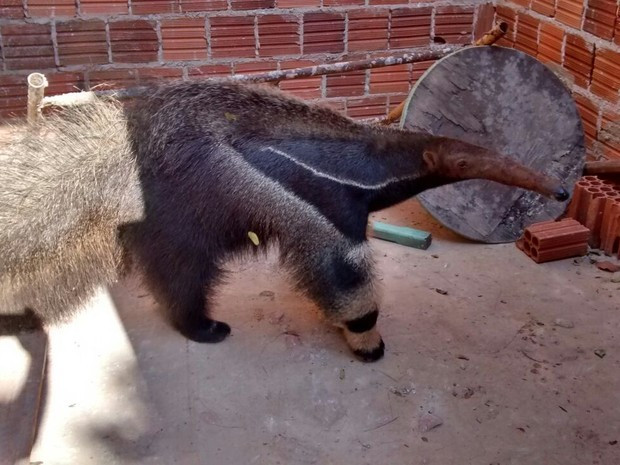TamanduaBandeira: (8, 81, 571, 365)
